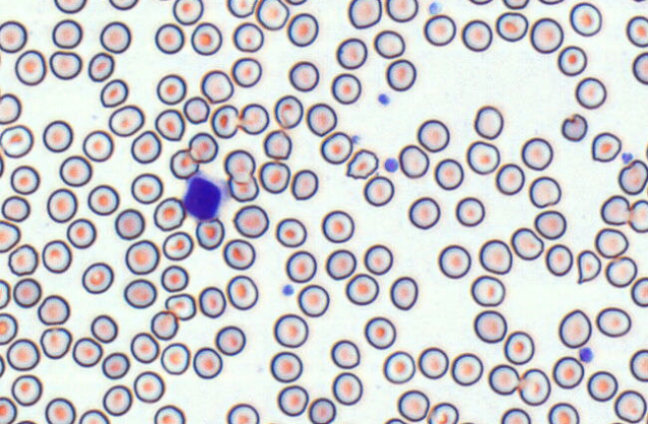MONO: (181, 168, 235, 226)
PLT: (383, 155, 400, 175), (375, 93, 394, 109), (580, 348, 595, 364), (281, 283, 295, 297), (621, 152, 636, 165), (430, 2, 443, 14)
RBC: (558, 308, 591, 348), (124, 239, 159, 274), (233, 204, 269, 238), (478, 239, 512, 274), (273, 313, 308, 347), (530, 17, 563, 53), (518, 368, 550, 405), (437, 244, 471, 278), (473, 309, 507, 343), (466, 140, 500, 174), (569, 1, 602, 36), (108, 104, 144, 136), (14, 49, 46, 85), (226, 274, 258, 310), (321, 209, 354, 243), (345, 272, 379, 305), (450, 352, 483, 386), (0, 124, 33, 158), (200, 69, 233, 103), (613, 389, 646, 423), (520, 136, 553, 170), (153, 196, 185, 231), (470, 274, 505, 306), (595, 306, 631, 337), (510, 227, 543, 260), (407, 196, 440, 229), (382, 350, 415, 383), (528, 175, 561, 208), (416, 119, 449, 152), (6, 338, 40, 370), (286, 12, 318, 46), (46, 187, 77, 222), (258, 160, 290, 193), (81, 261, 113, 294), (297, 284, 329, 317), (39, 326, 71, 359), (130, 172, 163, 204), (552, 356, 584, 389), (320, 131, 352, 164), (423, 14, 456, 46), (364, 316, 396, 349), (574, 76, 606, 109), (190, 22, 222, 55), (331, 371, 362, 405), (130, 130, 161, 164), (594, 227, 628, 258), (306, 102, 337, 136), (503, 330, 534, 364), (398, 144, 429, 178), (473, 104, 503, 139), (618, 159, 647, 195), (605, 255, 637, 287), (276, 384, 308, 416), (397, 389, 429, 421), (335, 37, 367, 69), (99, 21, 131, 53), (223, 238, 255, 270), (224, 149, 255, 182), (59, 155, 92, 186), (7, 243, 38, 276), (417, 346, 448, 379), (133, 370, 164, 403), (269, 351, 302, 382), (345, 148, 378, 179), (385, 58, 416, 91), (82, 129, 113, 162), (154, 108, 185, 141), (42, 119, 73, 152), (255, 0, 289, 30), (41, 239, 71, 273), (273, 94, 303, 128), (488, 363, 519, 395), (238, 102, 269, 134), (11, 374, 42, 406), (285, 250, 316, 282), (586, 370, 618, 401), (87, 184, 119, 215), (37, 294, 69, 325), (461, 19, 492, 51), (330, 72, 361, 104), (288, 60, 319, 92), (160, 342, 190, 375), (123, 278, 156, 308), (192, 346, 222, 379), (49, 50, 82, 80), (533, 209, 566, 239), (495, 11, 528, 41), (389, 276, 418, 310), (325, 248, 356, 279), (363, 175, 394, 206), (114, 208, 145, 239), (363, 243, 393, 275), (102, 384, 132, 416), (195, 217, 224, 250), (495, 162, 524, 195), (347, 0, 381, 28), (210, 104, 238, 138), (188, 132, 218, 163), (600, 194, 630, 225), (66, 218, 96, 249), (154, 23, 184, 54), (156, 73, 186, 104), (275, 217, 306, 247), (231, 57, 262, 87), (557, 45, 587, 76), (232, 22, 263, 52), (434, 158, 463, 190), (373, 29, 405, 58), (545, 243, 573, 276), (72, 337, 102, 367), (215, 325, 245, 355), (51, 19, 82, 48), (169, 148, 198, 179), (162, 231, 193, 260), (130, 332, 159, 363), (290, 168, 318, 200), (198, 286, 226, 318), (0, 20, 27, 53), (12, 277, 41, 307), (330, 339, 360, 368), (10, 164, 39, 194), (455, 196, 484, 226), (227, 174, 258, 202), (164, 293, 196, 320), (150, 310, 178, 340), (263, 129, 291, 159), (100, 78, 128, 107), (87, 51, 114, 81), (44, 397, 75, 423), (160, 264, 188, 292), (101, 351, 129, 379), (1, 195, 30, 222), (90, 314, 117, 343), (172, 0, 203, 25), (183, 95, 209, 124), (307, 397, 336, 423), (385, 0, 418, 22), (427, 401, 458, 423), (0, 92, 21, 124), (547, 402, 579, 423), (626, 15, 647, 47), (0, 219, 20, 252), (226, 403, 259, 423), (628, 199, 647, 233), (153, 404, 185, 423), (629, 348, 647, 381), (0, 312, 17, 345), (226, 0, 256, 18), (630, 276, 647, 307), (500, 407, 531, 423), (632, 51, 647, 84), (0, 396, 17, 423), (78, 409, 109, 423), (53, 0, 86, 13), (0, 278, 10, 309), (108, 0, 138, 10), (502, 0, 529, 9), (383, 417, 406, 423), (538, 0, 564, 5), (0, 353, 5, 377), (468, 0, 492, 5), (285, 0, 307, 5), (0, 154, 4, 178), (644, 139, 648, 162), (14, 419, 37, 423), (457, 421, 478, 424), (630, 0, 646, 3), (151, 0, 174, 1)
Schistocyte: (577, 249, 601, 285), (561, 114, 588, 144)
